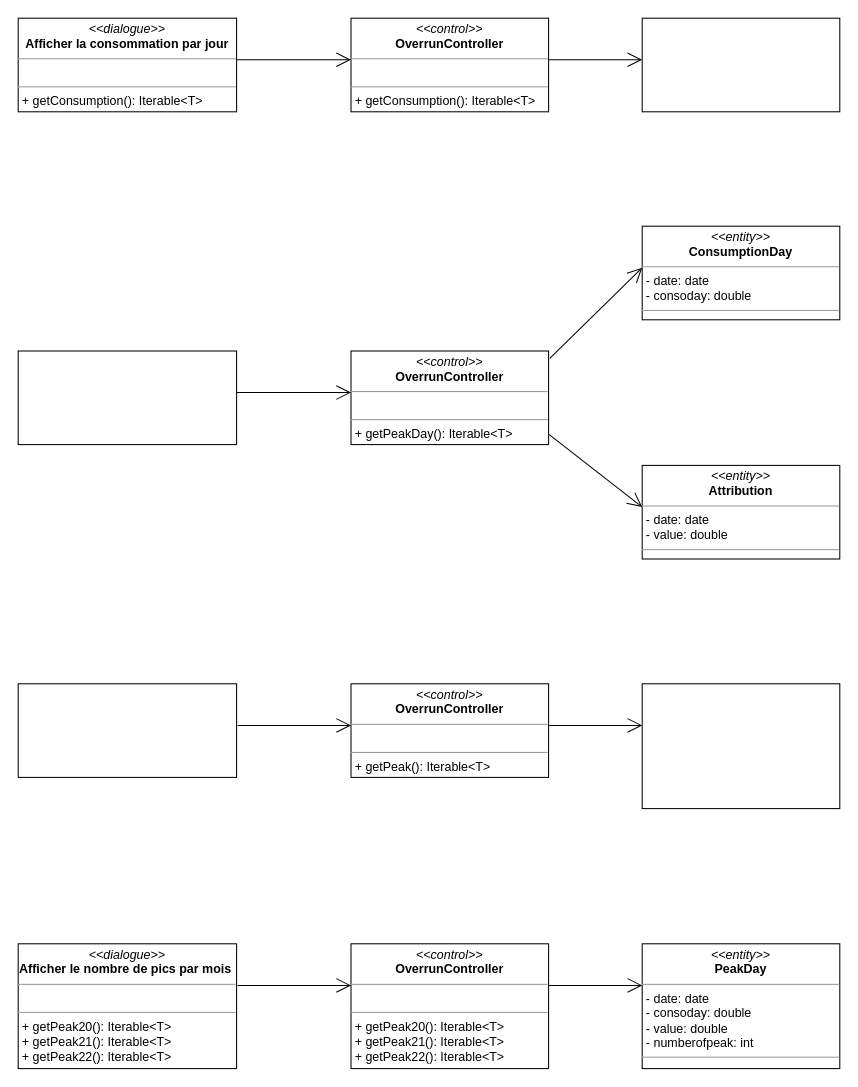
The diagram is 858 pixels wide and 1087 high, and some of its shapes have lost their labels. Each missing label, with the centre of its shape:
<<dialogue>> Afficher les jours de pics + getPeakDay(): Iterable<T>: (127,397)
<<dialogue>> Afficher les statistiques de pics + getPeak(): Iterable<T>: (127,730)
<<entity>> Consumption - date: date - value: double: (740,64)
<<entity>> PeakDay - date: date - consoday - value: double - numberofpeak: int: (740,746)
